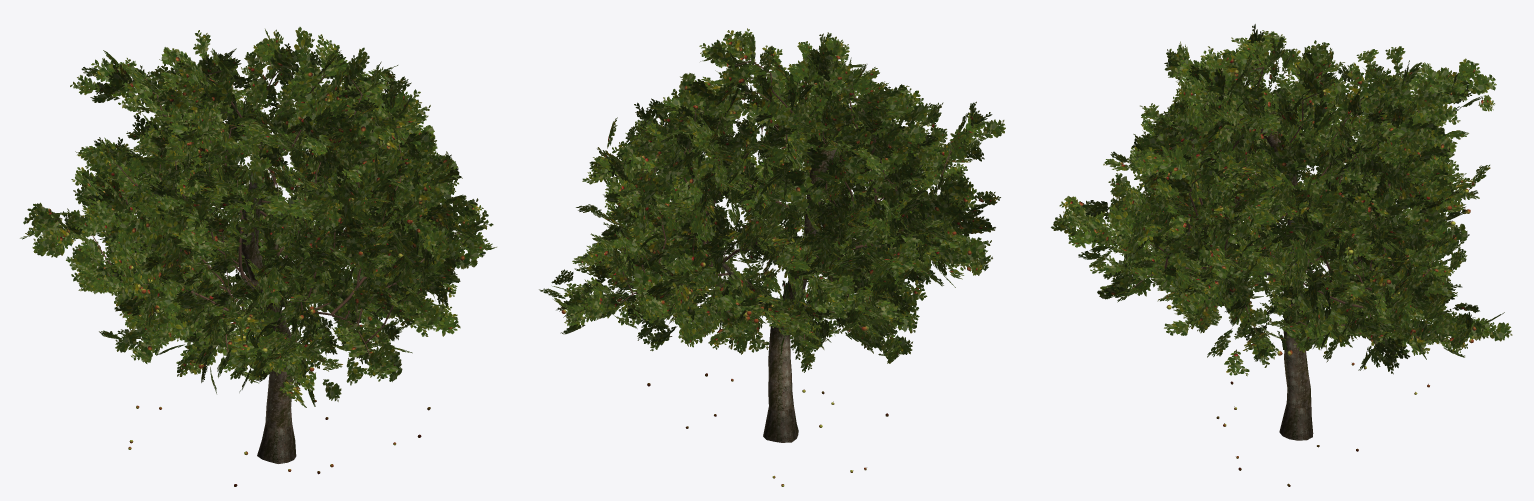
Rendered from jablon_2.glb.
3 views of the same model, side by side, from view 1: azimuth 30°, elevation 25°; view 2: azimuth 150°, elevation 25°; view 3: azimuth 270°, elevation 25° (orthographic). The views are drawn at different scales.
Parts seen in each view (by area): view 1: jablon_2; view 2: jablon_2; view 3: jablon_2.
Part boxes in pixels (x1=…): jablon_2: x1=20, y1=27, x2=496, y2=463; jablon_2: x1=539, y1=28, x2=1005, y2=442; jablon_2: x1=1051, y1=24, x2=1512, y2=440.
Size of the model in its own units: 7.27 by 7.42 by 8.36.
Materials: 5 (5 with a texture image).
